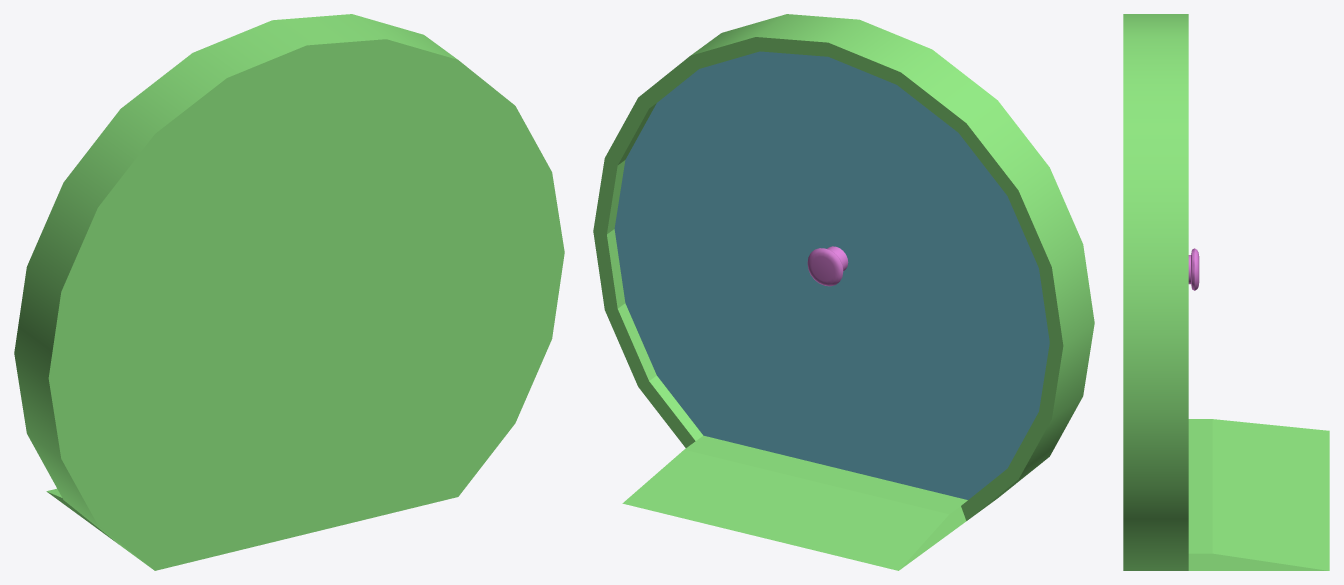
Rendered from door.fbx.
3 renders of one model, left to right at view 1: azimuth 30°, elevation 25°; view 2: azimuth 150°, elevation 25°; view 3: azimuth 270°, elevation 25°, orthographic. The views are drawn at different scales.
Parts seen in each view (by area): view 1: Cylinder001; view 2: Cylinder001; view 3: Cylinder001.
Part boxes in pixels (box(x1,y1,x2,y2)): Cylinder001: box(14, 14, 564, 570); Cylinder001: box(593, 14, 1094, 570); Cylinder001: box(1123, 14, 1329, 570).
Size of the model in its own units: 70.19 by 63.49 by 25.64.
